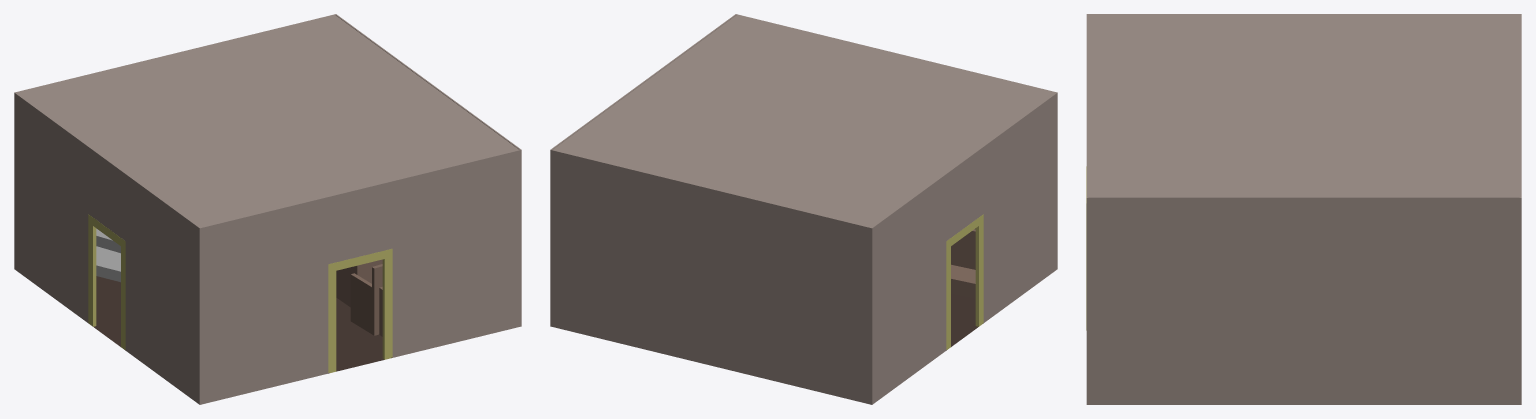
File: Room35_OrganRoom.fbx
3 renders of one model, left to right at view 1: azimuth 30°, elevation 25°; view 2: azimuth 150°, elevation 25°; view 3: azimuth 270°, elevation 25°, orthographic. The views are drawn at different scales.
Visible parts, largest first — view 1: Roof, WallSlicedPosZ, WallSlicedPosX, Floor, DoorFramePosZ, DoorFramePosX, pCube72 (×2), WallNegX, pCube225, pCube70, WallNegZ; view 2: Roof, WallNegZ, WallSlicedPosX, DoorFramePosX, Floor, pCube70, WallNegX, WallSlicedPosZ, pCube69; view 3: WallNegX, Roof, WallSlicedPosZ, WallNegZ, WallSlicedPosX.
Part boxes in pixels (x1,y1,x2,y2): Roof: (16,15,518,227); WallSlicedPosZ: (198,149,521,404); WallSlicedPosX: (14,92,201,404); Floor: (88,276,392,373); DoorFramePosZ: (328,248,392,372); DoorFramePosX: (88,214,125,349); pCube72 (×2): (336,266,371,333); WallNegX: (335,14,521,326); pCube225: (96,246,120,282); pCube70: (372,264,382,335); WallNegZ: (14,14,335,269); Roof: (553,15,1055,227); WallNegZ: (550,149,873,404); WallSlicedPosX: (870,92,1057,403); DoorFramePosX: (946,214,983,349); Floor: (946,293,983,350); pCube70: (951,229,975,298); WallNegX: (550,14,736,326); WallSlicedPosZ: (736,14,1057,269); pCube69: (951,264,975,287); WallNegX: (1086,197,1521,404); Roof: (1088,14,1519,197); WallSlicedPosZ: (1086,14,1088,197); WallNegZ: (1519,14,1521,197); WallSlicedPosX: (1088,14,1519,14).
Size of the model in its own units: 801 by 420 by 800.
